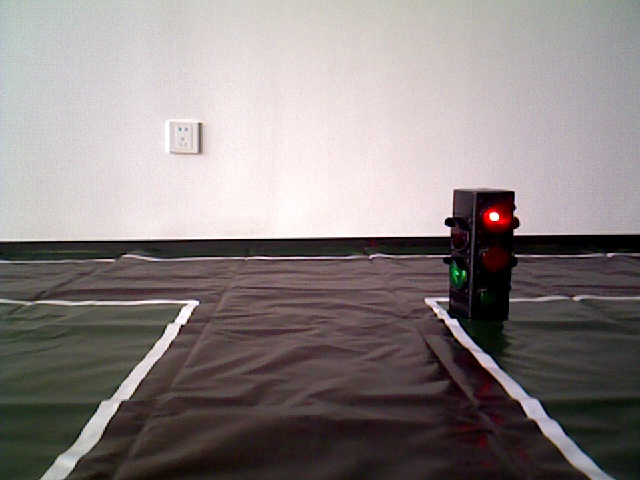red: (451, 191, 512, 317)
